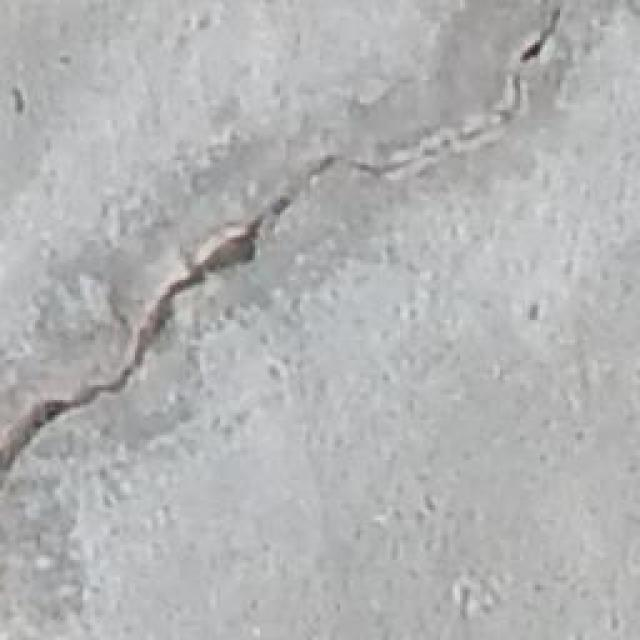concrete-crack: (3, 3, 575, 474)
